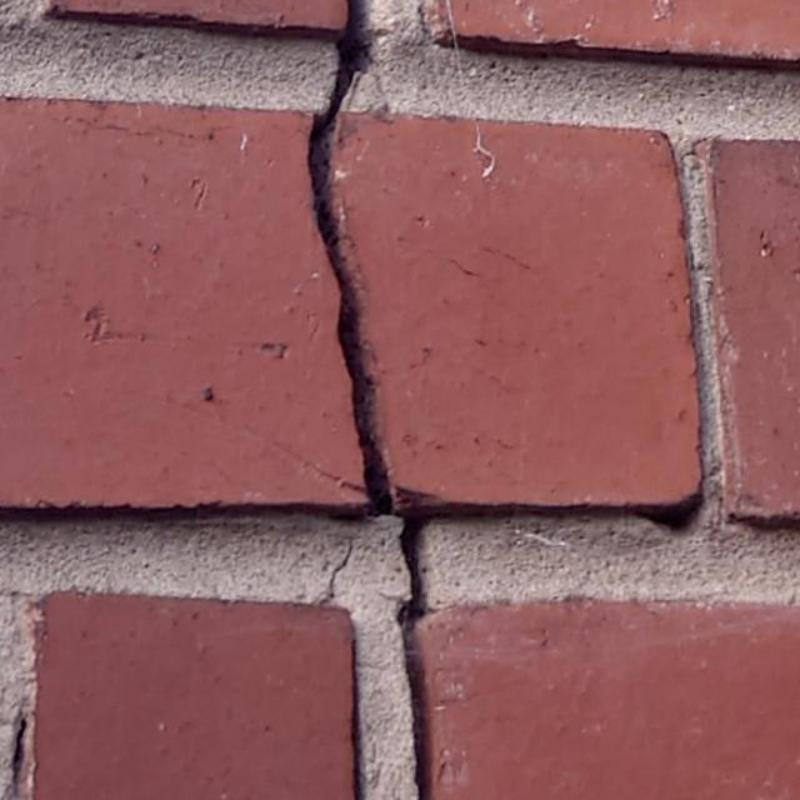crack: (311, 0, 394, 516), (398, 517, 428, 799), (318, 539, 354, 606), (9, 715, 31, 798)
